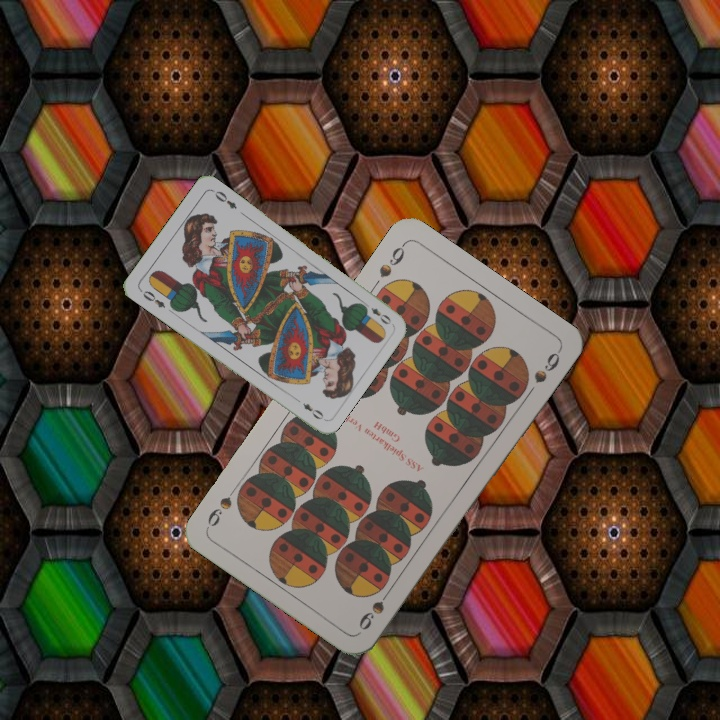EO: (359, 299, 394, 327), (136, 286, 168, 311)
S9: (354, 582, 395, 633), (375, 239, 408, 281)
